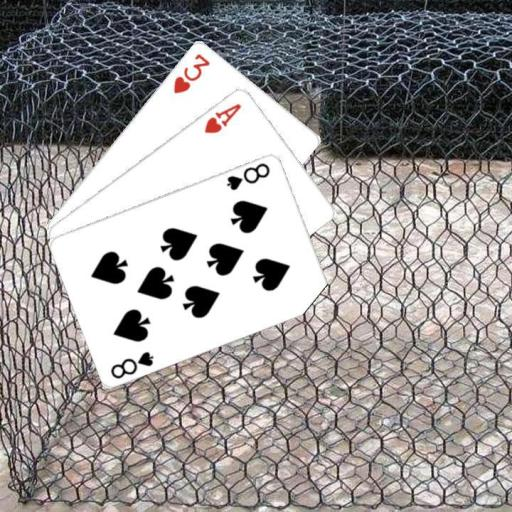3H: (170, 50, 212, 95)
8S: (223, 160, 272, 192), (107, 348, 156, 380)
AH: (201, 100, 243, 135)
